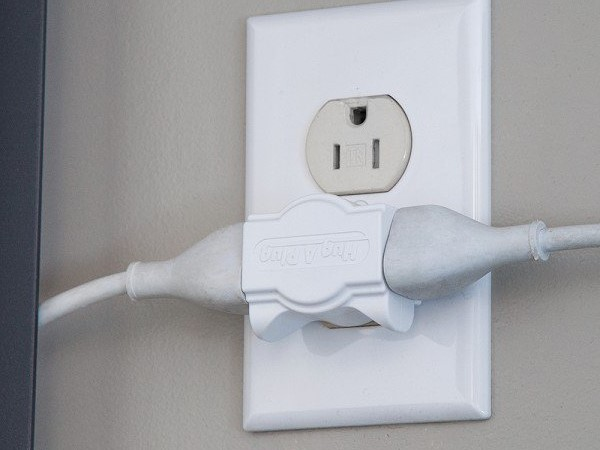outlet: (321, 102, 387, 175)
